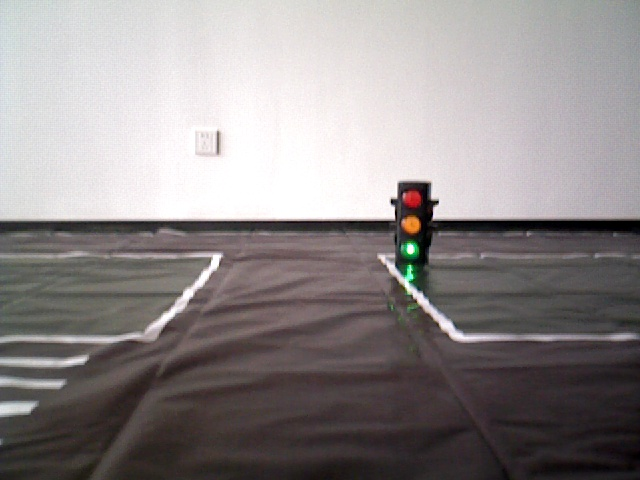green: (397, 185, 423, 260)
